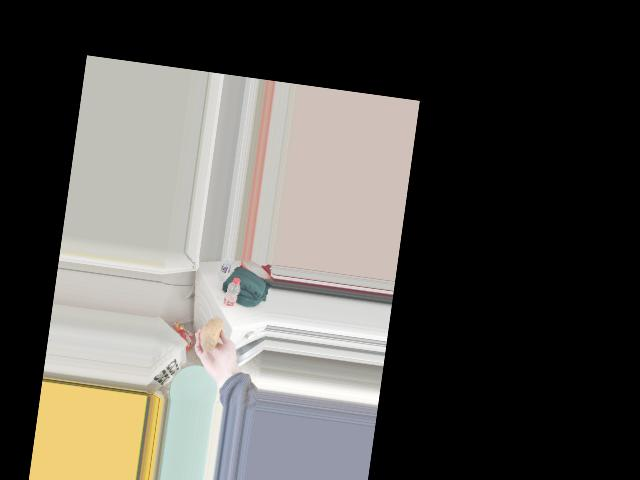sweet_potato: (199, 314, 221, 357)
